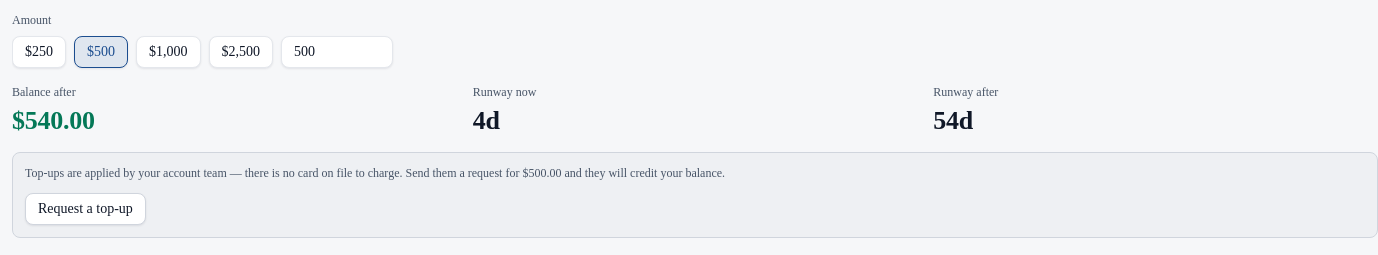
Scenario: Request a top-up › posts the request for the chosen amount, then reads "Request sent"
This screenshot has width=1378, height=255.
Click the button "$1,000": (168, 52) [136,36,200,68]
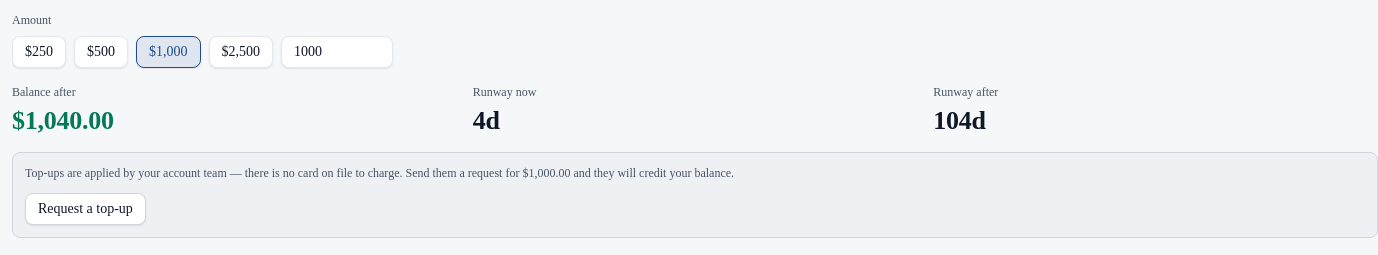
Click the button "Request a top-up": (85, 209) [25,193,146,225]
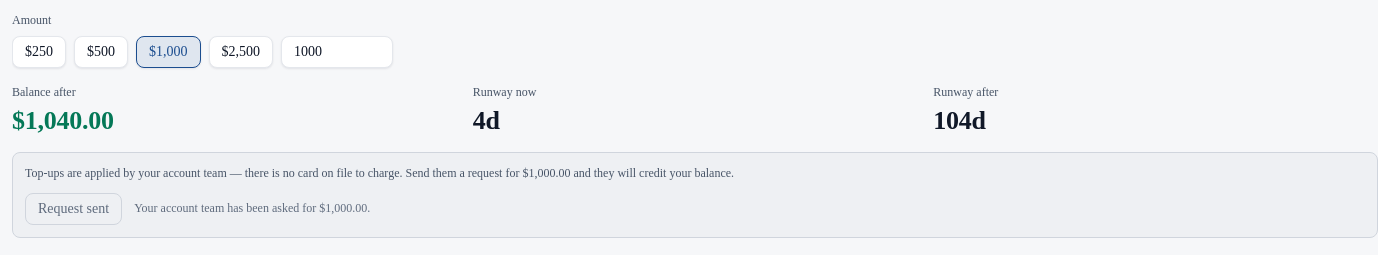
Expected: the button "Request sent" is shown, [25,193,122,225]
Expected: the text "Your account team has been asked for $1,000.00." is shown, [134,200,370,217]
